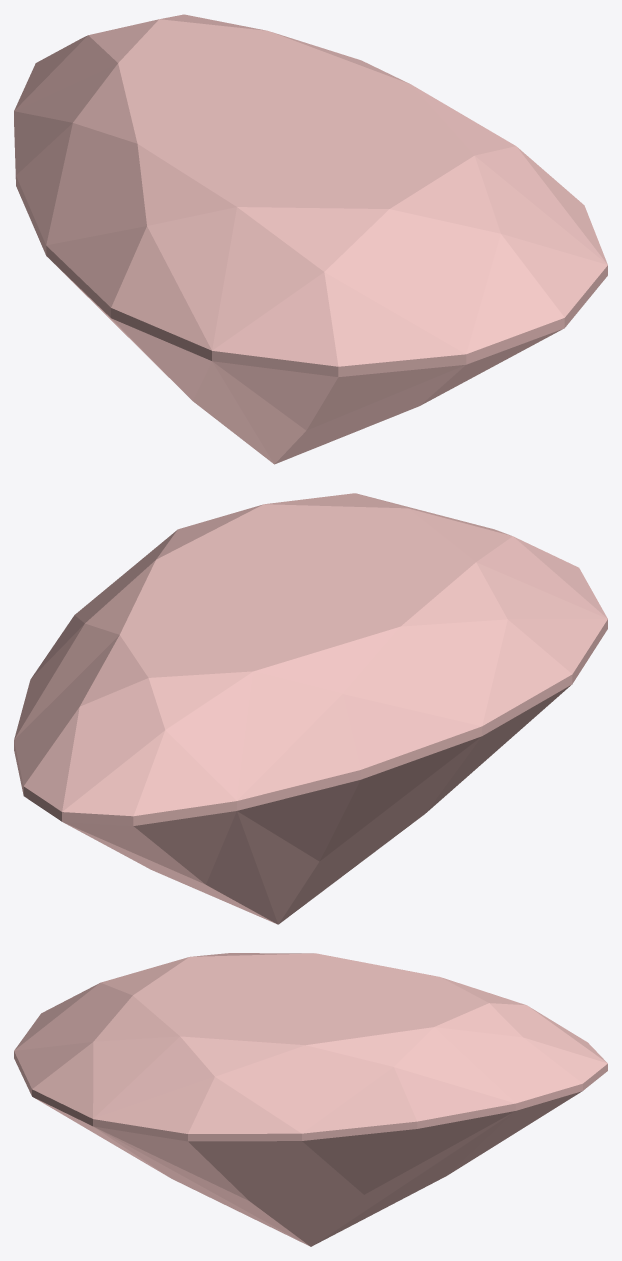
The model's file is stone-morganite.glb.
The picture shows the model from 3 angles, top to bottom: view 1: azimuth 30°, elevation 25°; view 2: azimuth 150°, elevation 25°; view 3: azimuth 270°, elevation 25°; orthographic projection. The views are drawn at different scales.
Parts seen in each view (by area): view 1: Gemstone Morganite; view 2: Gemstone Morganite; view 3: Gemstone Morganite.
Boxes of the visible parts, x1,y1,x2,y2 form: Gemstone Morganite: [14, 14, 607, 464]; Gemstone Morganite: [14, 493, 607, 924]; Gemstone Morganite: [14, 953, 607, 1246].
Size of the model in its own units: 1.62 by 1.18 by 2.56.
